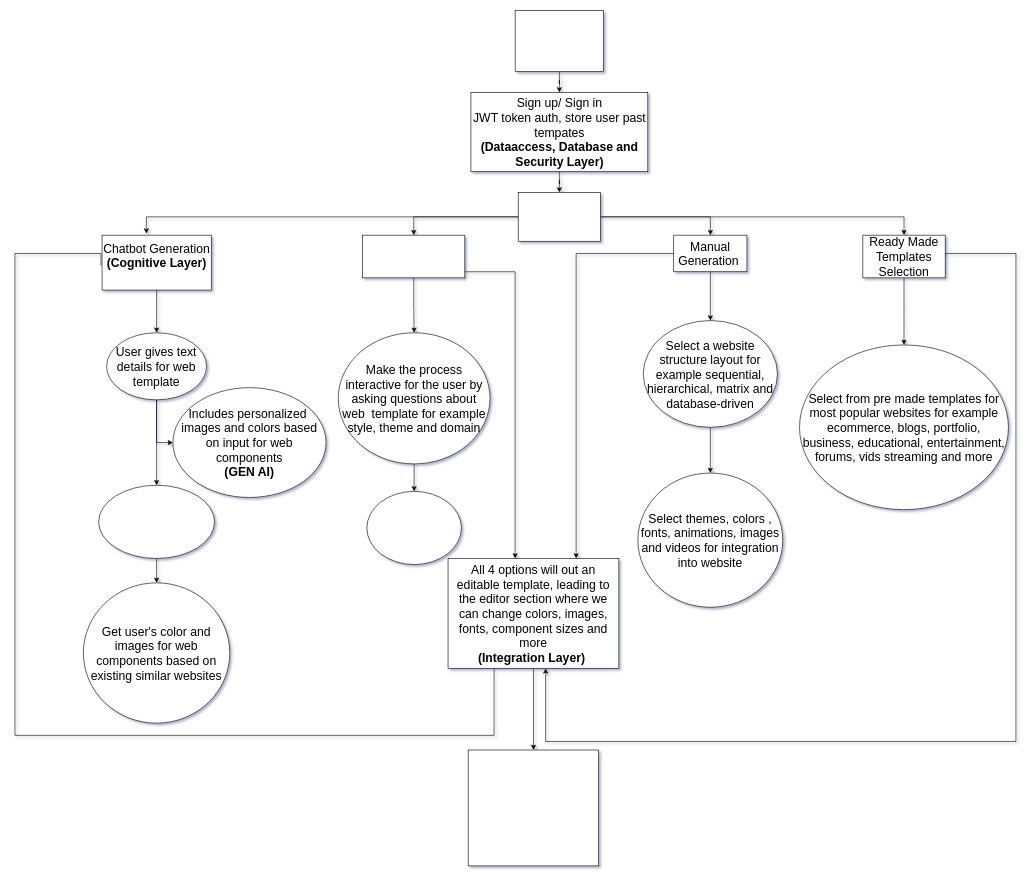
This 1035x880 diagram has some shape labels left out. Each missing label, with the centre of its shape:
"FlexiCraft ( Application Layer)" belongs at (x=559, y=216).
"Generates template based on user preferences" belongs at (x=413, y=528).
"Landing Page (UI Layer)" belongs at (x=559, y=41).
"Questionnaire Generation" belongs at (x=413, y=256).
"Trained AI-Model based on domain specific language" belongs at (x=156, y=521).
"Web components code generation, export to code (Infrastructure Layer)" belongs at (x=533, y=807).
